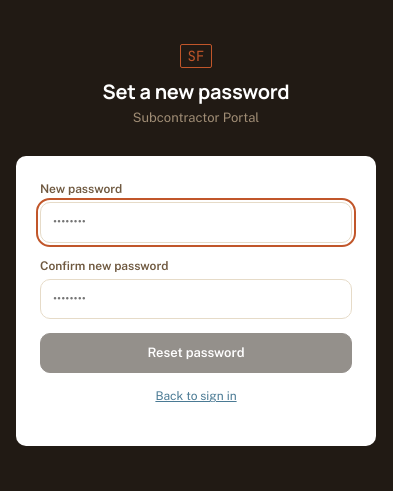
Scenario: PortalResetPassword › keeps submit disabled until passwords match, then posts token + password
The image size is (393, 491).
Type "brandnewpass1" into the password field labelled "New password" at (196, 222), box [40,202,352,242]
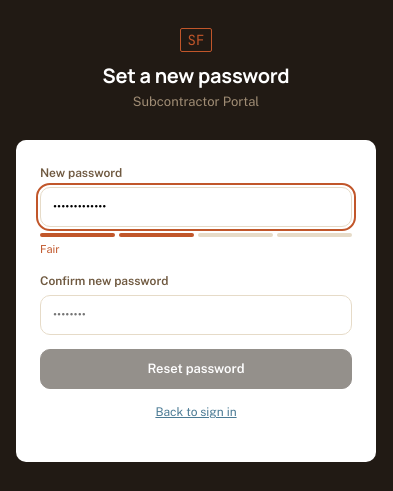
Type "different" into the password field labelled "Confirm new password" at (196, 315), box [40,295,352,335]
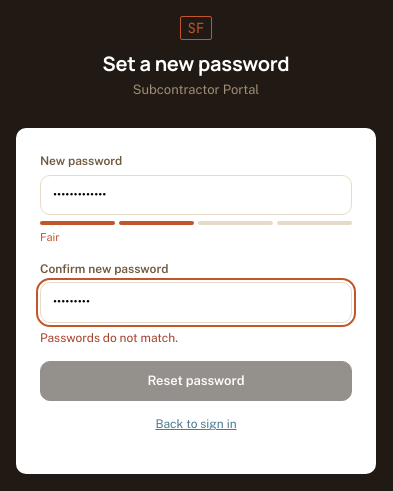
Check: the button "Reset password" is disabled, box [40,361,352,401]
Clear the password field labelled "Confirm new password" at (196, 302), box [40,282,352,322]
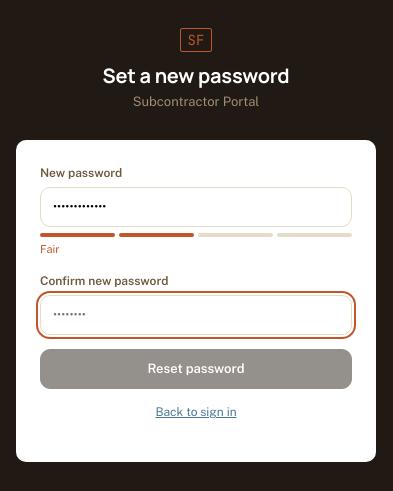
Type "brandnewpass1" into the password field labelled "Confirm new password" at (196, 315), box [40,295,352,335]
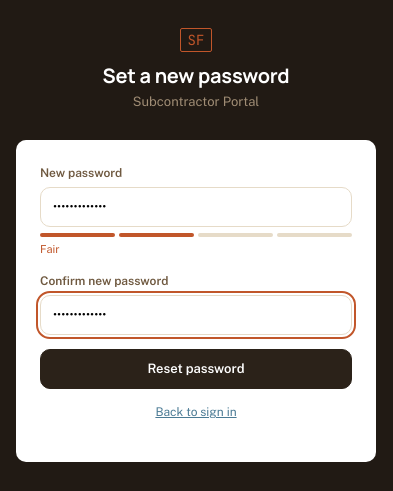
Check: the button "Reset password" is enabled
Click the button "Reset password" at (196, 369), box [40,349,352,389]
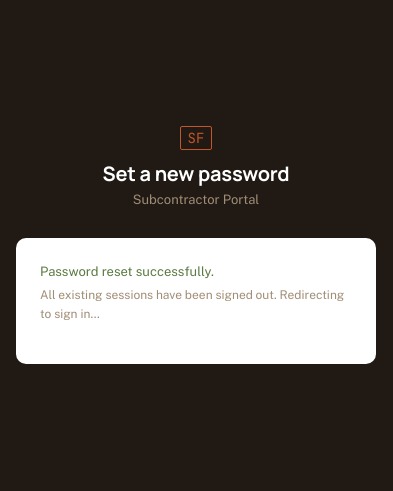
Check: the text "Password reset successfully." is shown, box [40,264,214,279]
